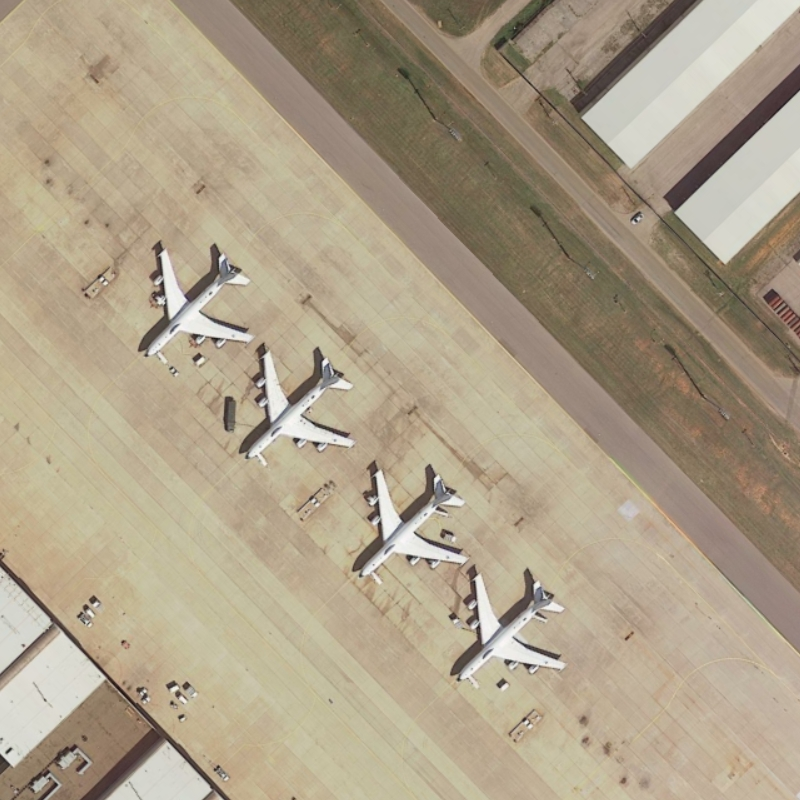A11: (132, 233, 261, 361), (349, 456, 471, 583), (237, 346, 362, 467), (449, 568, 571, 689)
